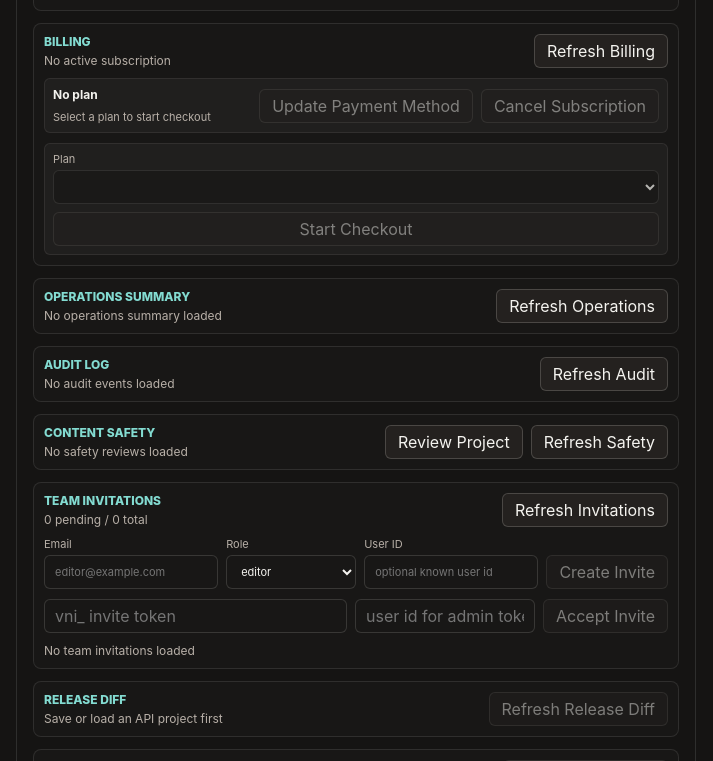
Test: Studio App › loads audit events through the production API
(page scrolled)
Click the button "Refresh Audit".
click(604, 374)  # box x1=540 y1=357 x2=668 y2=391
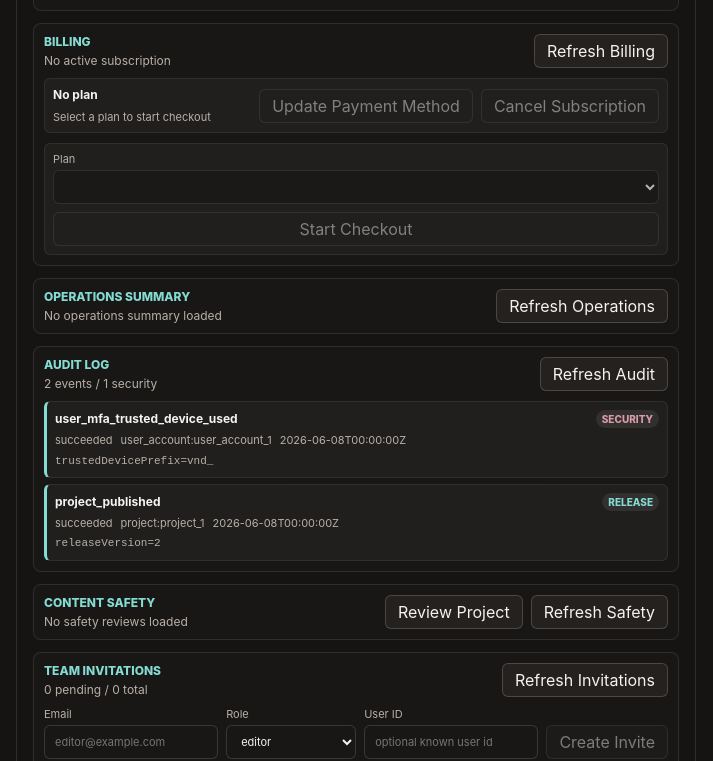
Now the text "2 events / 1 security" is shown, box x1=44 y1=376 x2=157 y2=391
Now the text "user_mfa_trusted_device_used" is shown, box x1=55 y1=411 x2=238 y2=428
Now the text "project_published" is shown, box x1=55 y1=494 x2=160 y2=510
